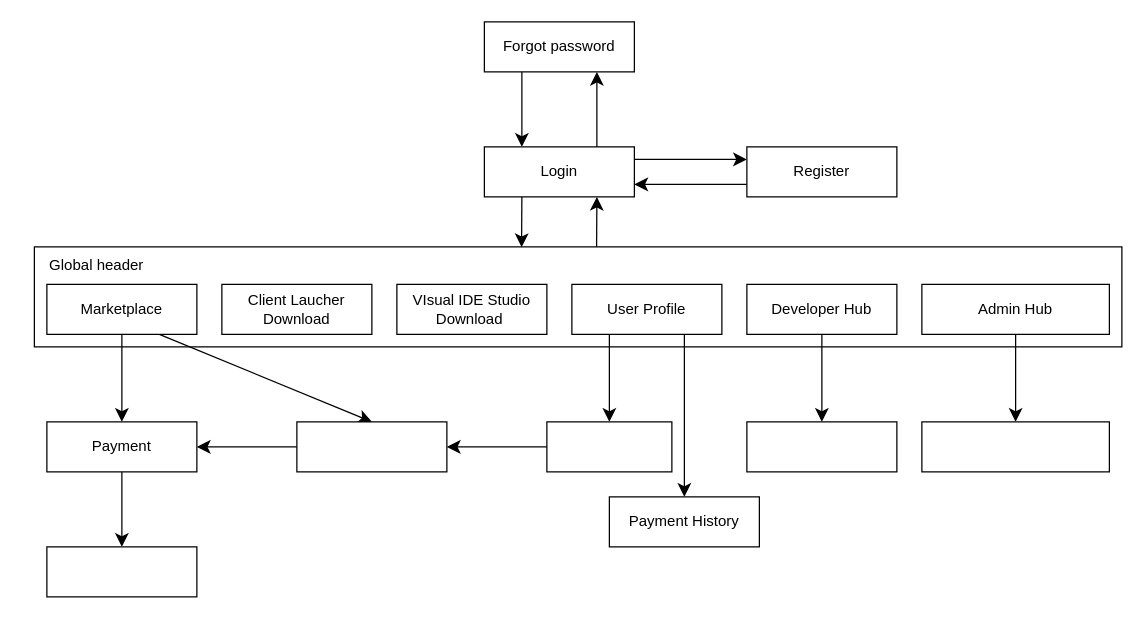
Some shapes in this 1144 by 619 pixel diagram are drawn without their labels. Here are the shapes that lost their labels. From the top down, the centre of each, then its label:
At (x=371, y=446): "Tool Detail".
At (x=609, y=446): "Purchased Licenses".
At (x=821, y=446): "Tool Management".
At (x=1015, y=446): "Config & Management For Admin".
At (x=121, y=571): "Purchase Success".
